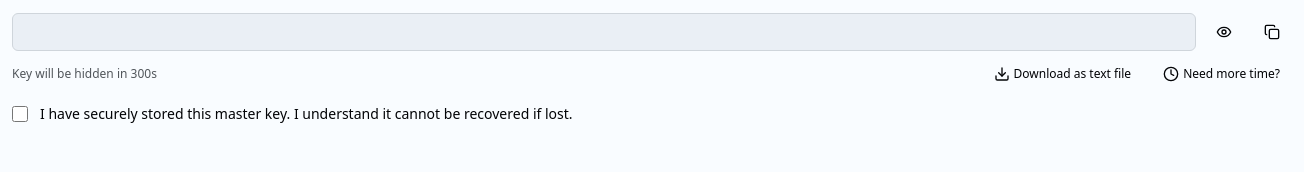
Scenario: MasterKeyDisplay › show/hide toggle › reveals the key text after clicking show
Click the button named "show master key" at (1224, 32), box top-left (1204, 12), bottom-right (1244, 52)
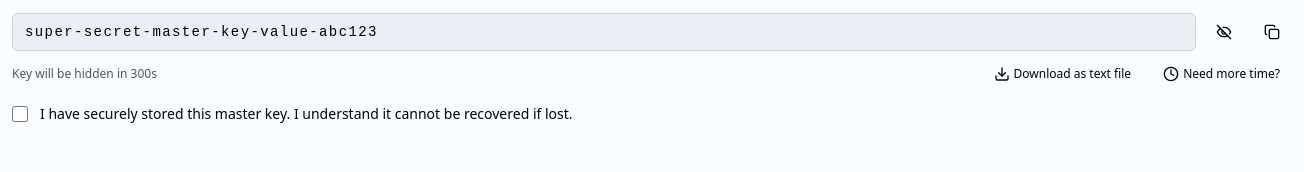
expect the field named "master encryption key" reads "super-secret-master-key-value-abc123": met, box top-left (25, 24), bottom-right (378, 40)
